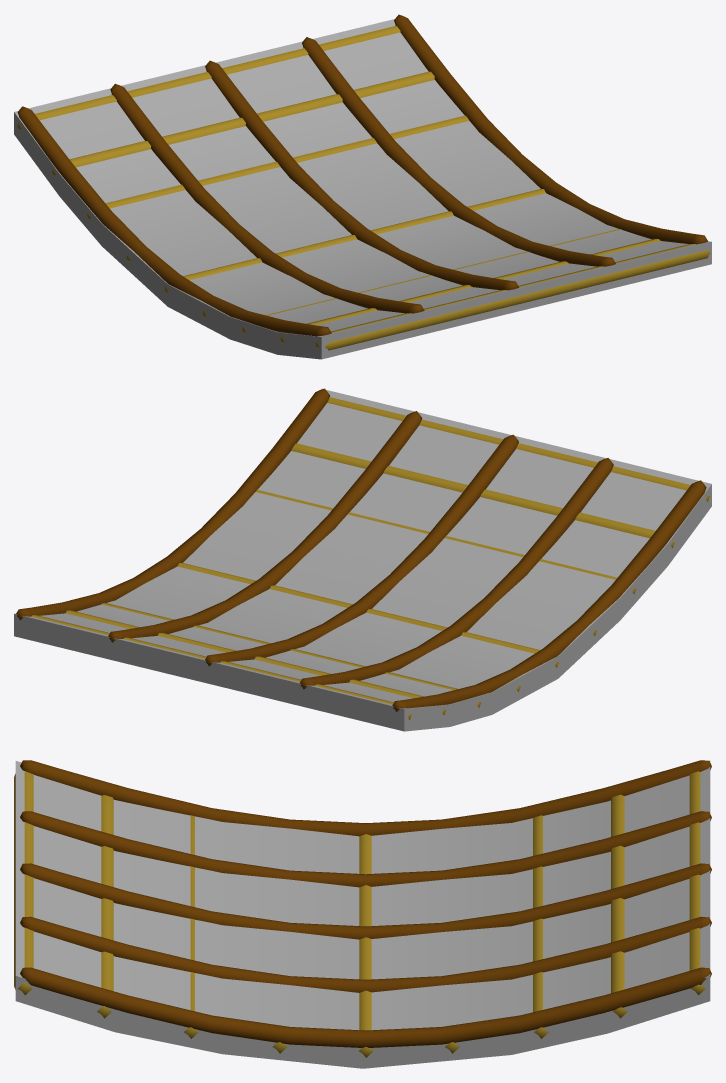
File: Net.fbx
The picture shows the model from 3 angles, top to bottom: view 1: azimuth 30°, elevation 25°; view 2: azimuth 150°, elevation 25°; view 3: azimuth 270°, elevation 25°; orthographic projection. The views are drawn at different scales.
Parts seen in each view (by area): view 1: Net4, Net3; view 2: Net4, Net3; view 3: Net4, Net3.
Part boxes in pixels (left/top/right/bottom): Net4: left=14, top=19, right=711, bottom=359; Net3: left=17, top=14, right=709, bottom=350; Net4: left=14, top=388, right=711, bottom=731; Net3: left=16, top=388, right=709, bottom=719; Net4: left=15, top=761, right=710, bottom=1068; Net3: left=14, top=760, right=711, bottom=1057.
Size of the model in its own units: 8.26 by 1.73 by 11.25.
